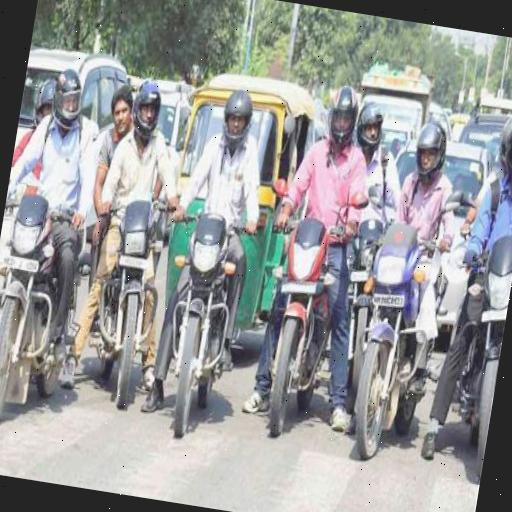helmet: (140, 71, 279, 424), (330, 116, 450, 469), (244, 69, 365, 413), (0, 58, 110, 411), (82, 64, 195, 398), (448, 104, 512, 423)
